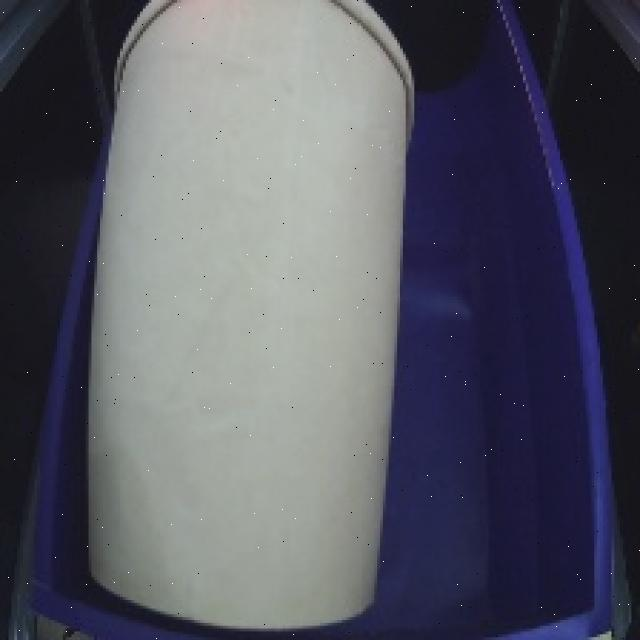cups: (63, 0, 438, 640)
